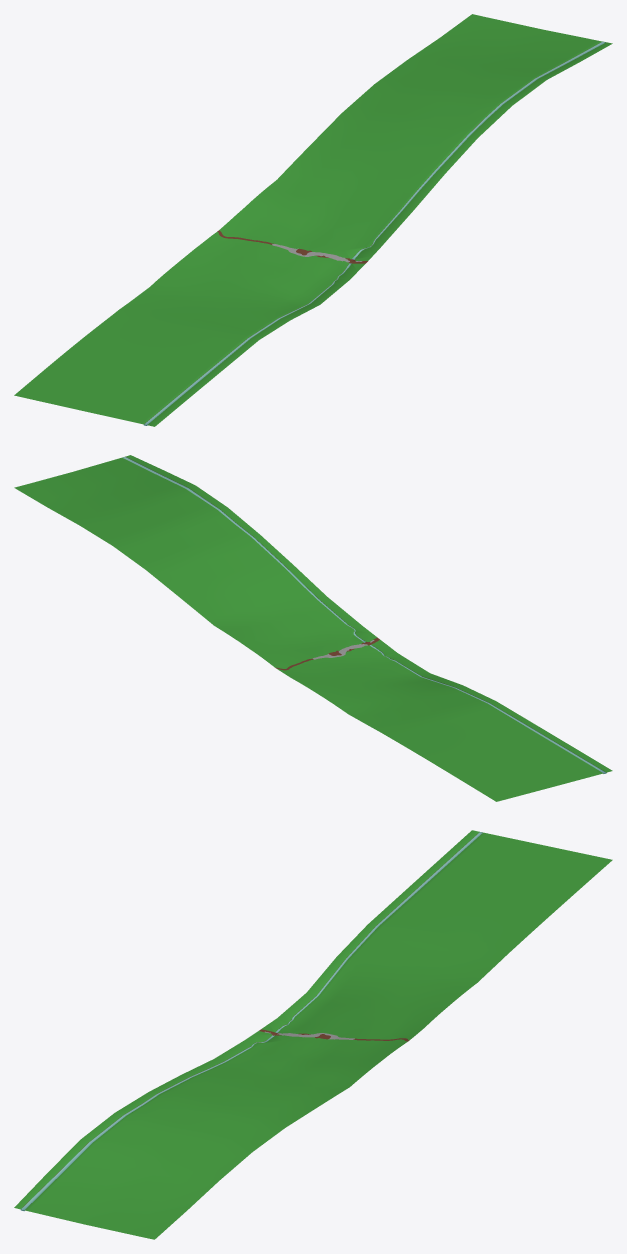
Rendered from Placeholder_module03_dark_forest.fbx.
3 renders of one model, top to bottom at view 1: azimuth 90°, elevation 25°; view 2: azimuth 150°, elevation 25°; view 3: azimuth 270°, elevation 25°, orthographic. The views are drawn at different scales.
Visible parts, largest first — view 1: water; view 2: water; view 3: water.
Boxes of the visible parts, bbox=[...] form: water: bbox=[14, 14, 612, 426]; water: bbox=[14, 455, 612, 801]; water: bbox=[14, 830, 612, 1239].
Size of the model in its own units: 60.48 by 2.9 by 37.23.
